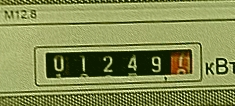0: (53, 53, 67, 73)
1: (78, 54, 89, 73)
2: (102, 54, 116, 74)
4: (127, 54, 139, 73)
7: (175, 49, 188, 69)
9: (150, 54, 164, 75)
screen: (27, 40, 203, 88)
